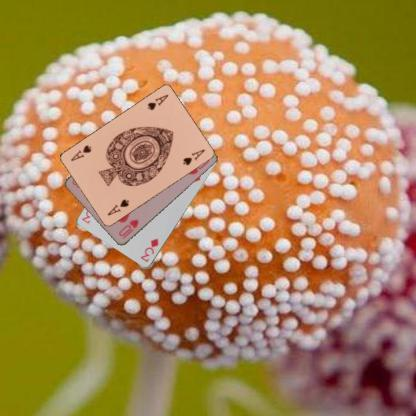10h: (116, 218, 140, 240)
3d: (138, 236, 160, 263)
As: (105, 196, 130, 218), (145, 92, 170, 111)
